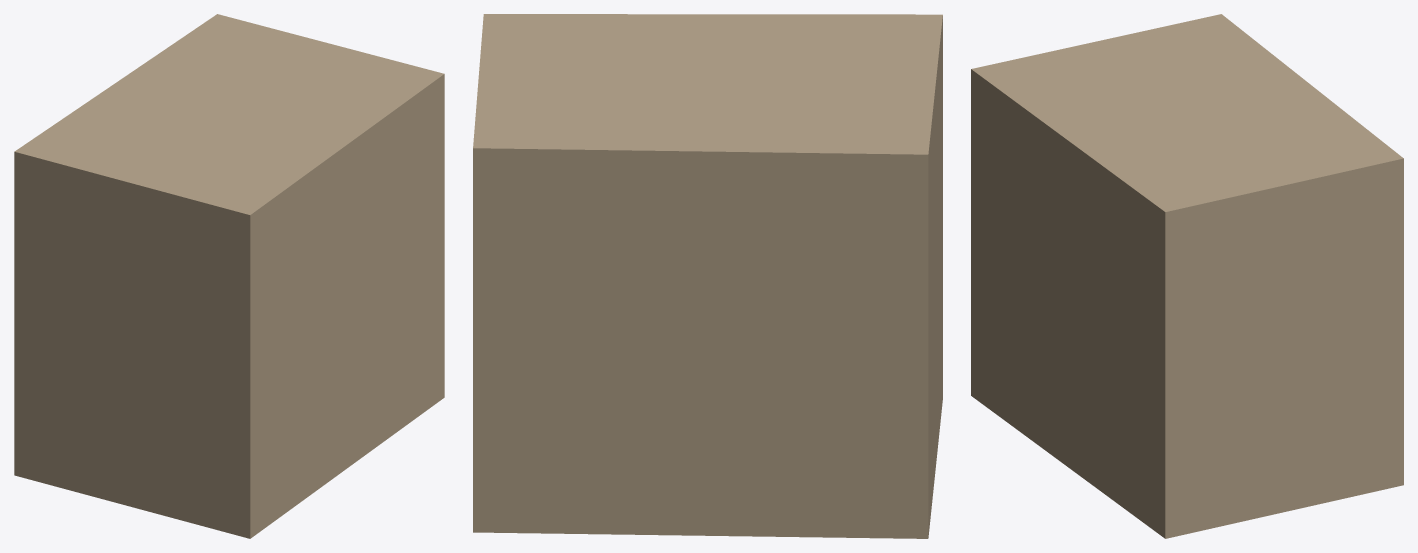
File: bld_109034833.dae
3 views of the same model, side by side, from view 1: azimuth 30°, elevation 25°; view 2: azimuth 150°, elevation 25°; view 3: azimuth 270°, elevation 25° (orthographic). The views are drawn at different scales.
Parts seen in each view (by area): view 1: bld_109034833; view 2: bld_109034833; view 3: bld_109034833.
Boxes of the visible parts, x1,y1,x2,y2 form: bld_109034833: [14, 14, 444, 538]; bld_109034833: [473, 14, 942, 538]; bld_109034833: [971, 14, 1403, 538].
Size of the model in its own units: 10.41 by 9.6 by 8.
